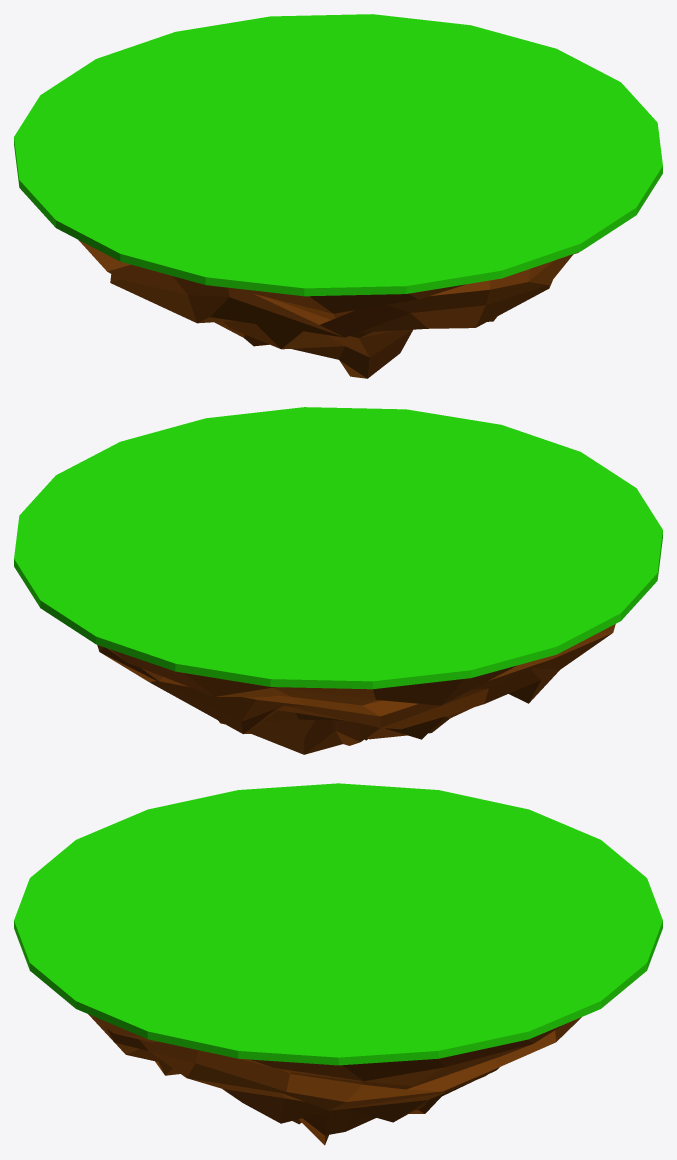
Rendered from island.fbx.
3 renders of one model, top to bottom at view 1: azimuth 30°, elevation 25°; view 2: azimuth 150°, elevation 25°; view 3: azimuth 270°, elevation 25°, orthographic.
Parts seen in each view (by area): view 1: Circle; view 2: Circle; view 3: Circle.
Boxes of the visible parts, x1,y1,x2,y2 form: Circle: (14,14,662,378); Circle: (14,407,662,754); Circle: (14,783,662,1145).
Bounding box in the file's own units: 200 × 70.98 × 200.
